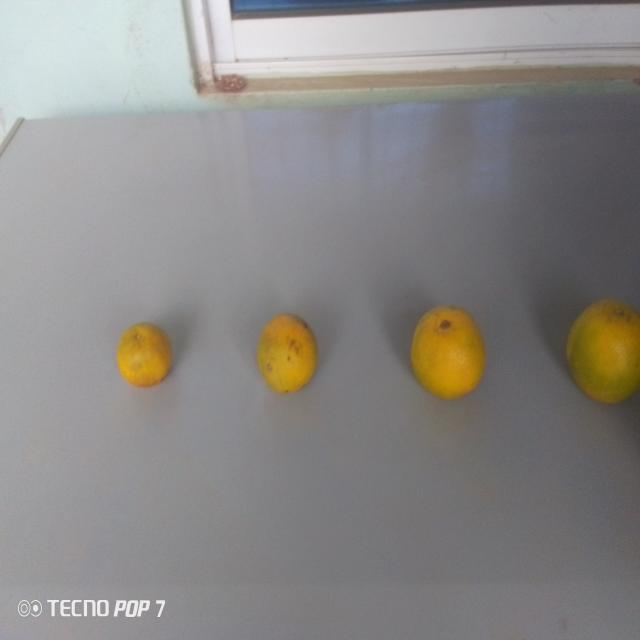Ripe orange: (399, 296, 508, 409), (554, 296, 640, 418), (251, 309, 331, 409), (107, 312, 185, 406)
